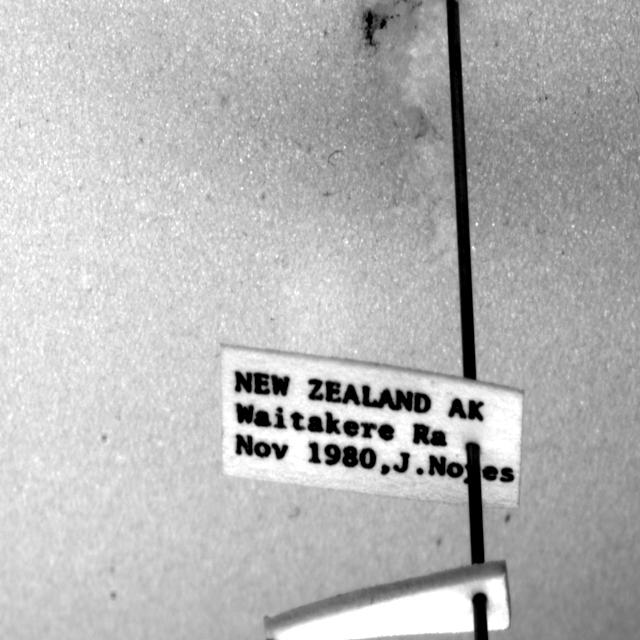typed_label: (221, 345, 524, 508)
